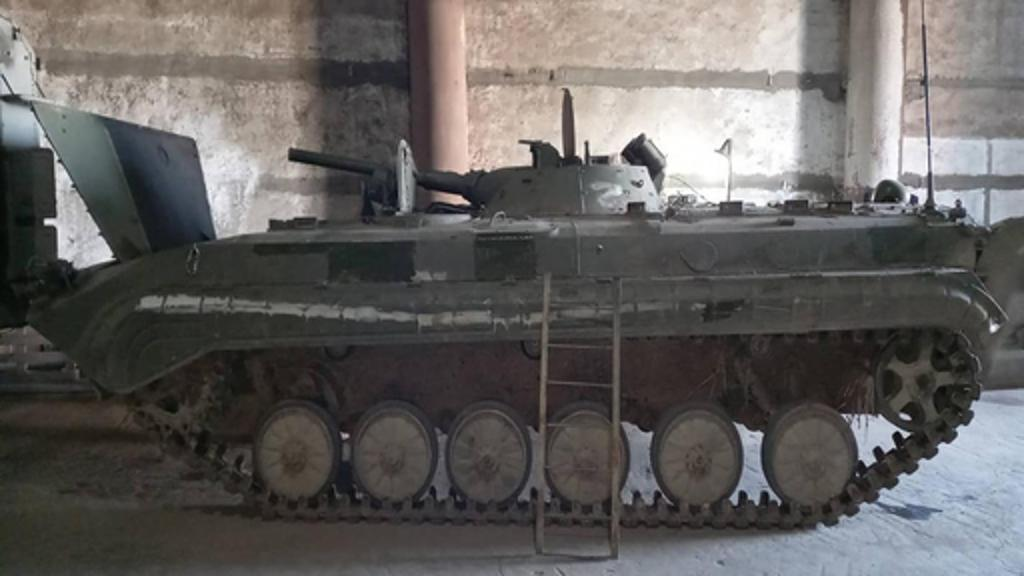APC-IFV: (20, 96, 1002, 538)
